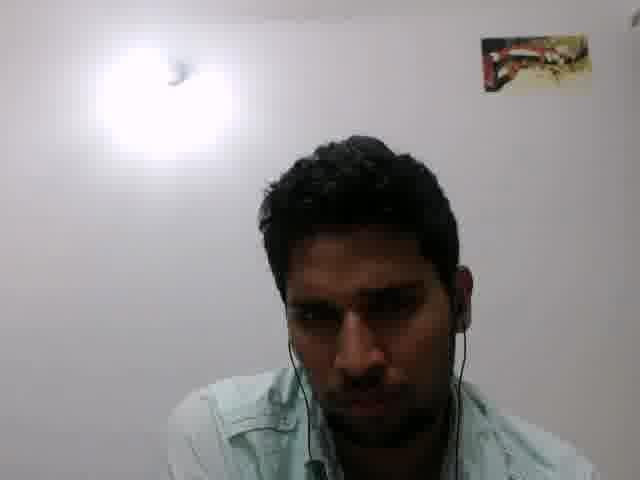bingung: (277, 221, 450, 445)
